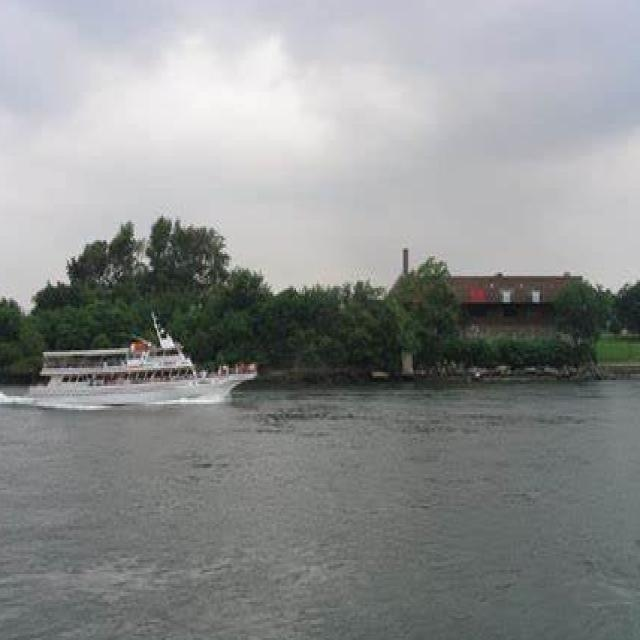houseboat: (17, 309, 266, 404)
